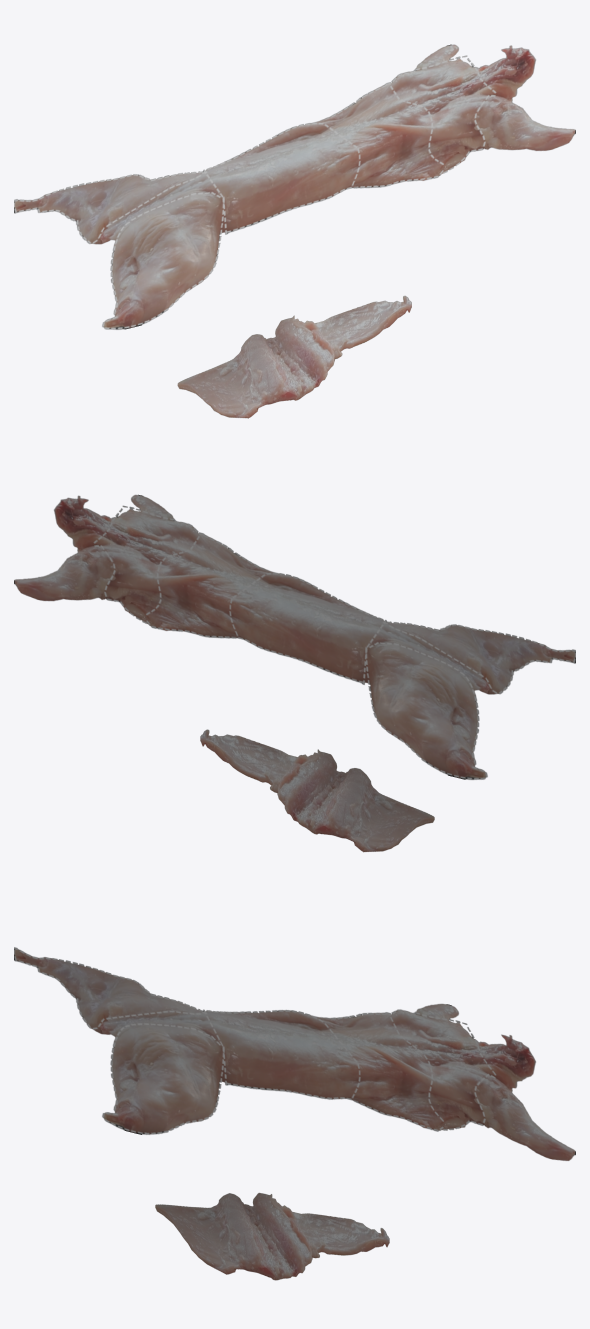
The model's file is Rabbit_Game02.glb.
3 views of the same model, one above another, from view 1: azimuth 30°, elevation 25°; view 2: azimuth 150°, elevation 25°; view 3: azimuth 330°, elevation 25° (orthographic).
Parts seen in each view (by area): view 1: Rabbit, Saddle; view 2: Rabbit, Saddle; view 3: Rabbit, Saddle.
Boxes of the visible parts, box(x1,y1,x2,y2) form: Rabbit: box(14, 44, 575, 329); Saddle: box(177, 295, 411, 418); Rabbit: box(14, 494, 575, 779); Saddle: box(200, 729, 434, 852); Rabbit: box(14, 947, 575, 1160); Saddle: box(155, 1192, 389, 1280).
Bounding box in the file's own units: 4.34 × 2.31 × 0.1496.
Materials: 2 (2 with a texture image).
